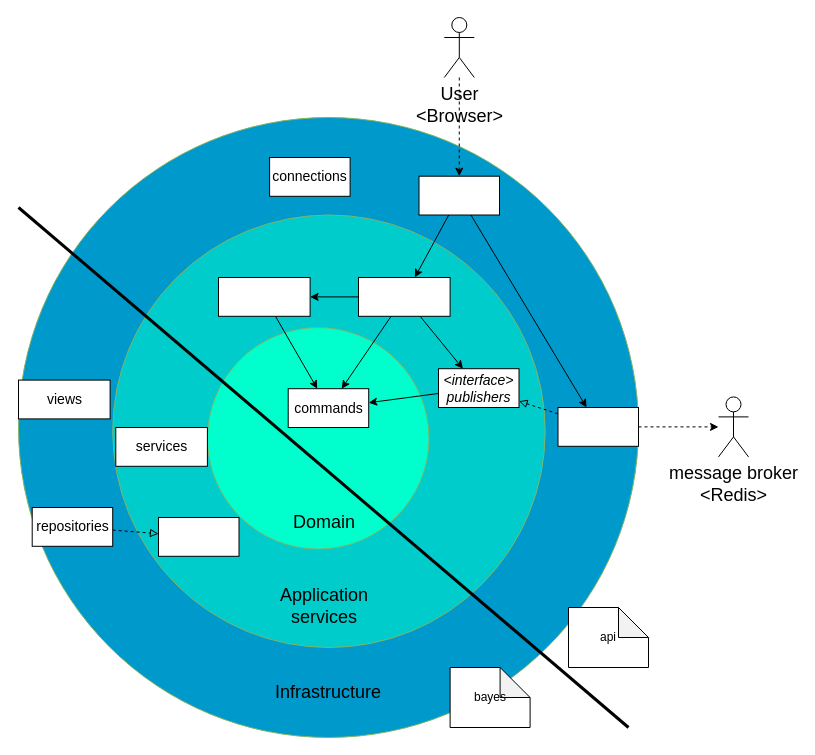
This 815x755 diagram has some shape labels left out. Here are the shapes that lost their labels. From the top down, the box of each, then its label:
(418, 175, 500, 215): controllers
(218, 276, 310, 316): handlers
(358, 276, 450, 316): message bus
(557, 406, 638, 446): publishers
(158, 516, 239, 556): <interface> repositories
